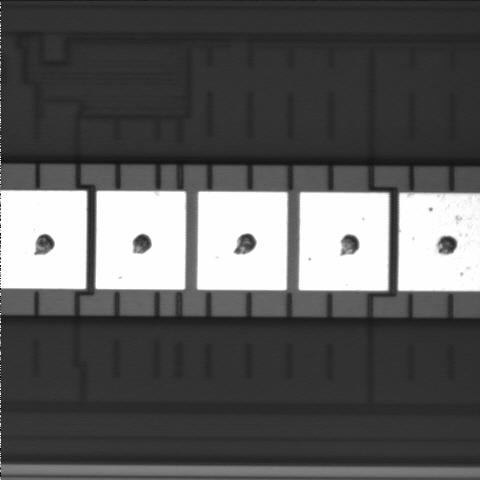pad: (96, 191, 186, 290), (299, 192, 389, 291), (197, 192, 287, 290)
